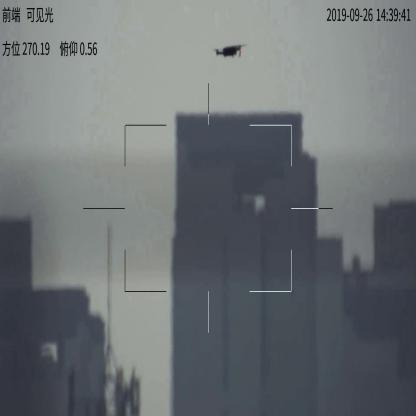uav: (212, 42, 248, 59)
